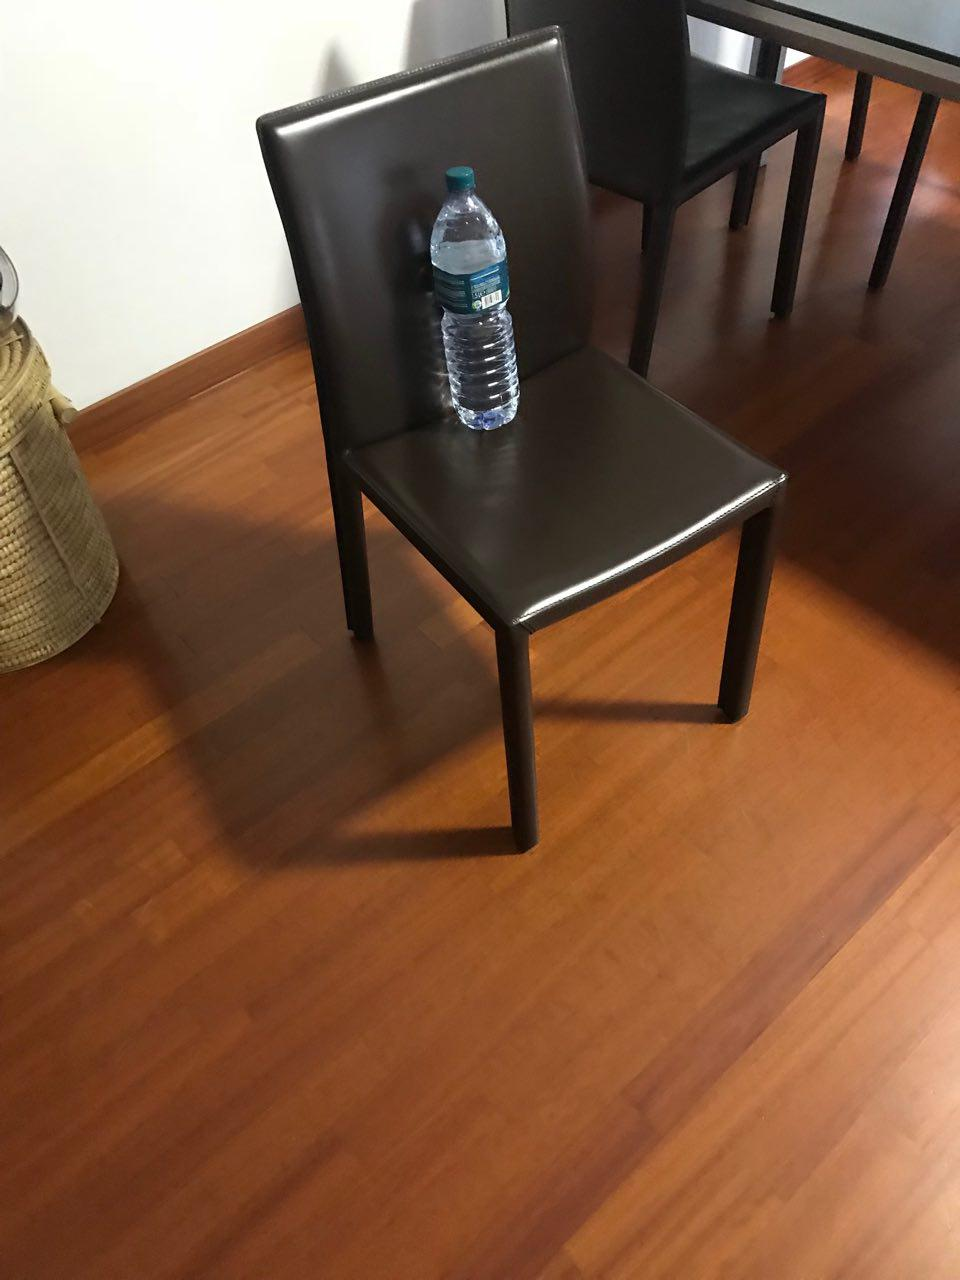san_bernardo: (429, 165, 520, 430)
